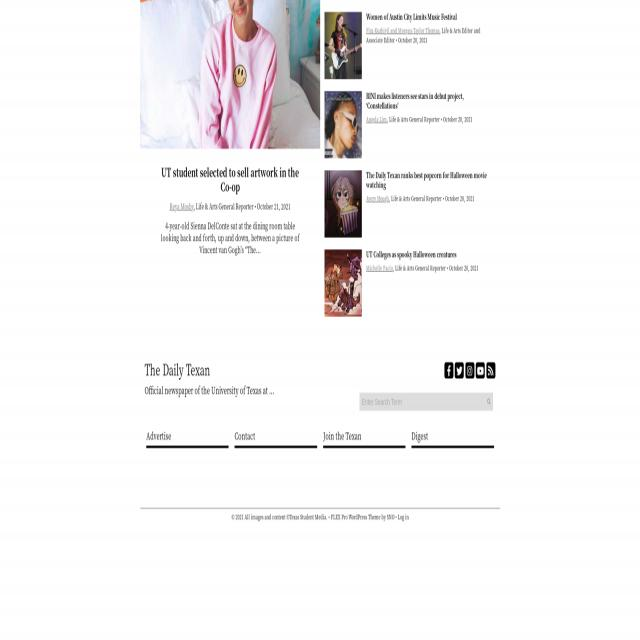button: (140, 0, 320, 149), (324, 91, 362, 158), (324, 12, 362, 79), (324, 171, 362, 237), (324, 250, 362, 316), (146, 427, 229, 448), (235, 427, 318, 448), (323, 427, 406, 448), (412, 427, 494, 448), (444, 362, 454, 380), (476, 362, 486, 378), (487, 362, 496, 379), (465, 362, 474, 378), (455, 362, 464, 378), (487, 394, 493, 410)
field: (360, 393, 493, 411)
